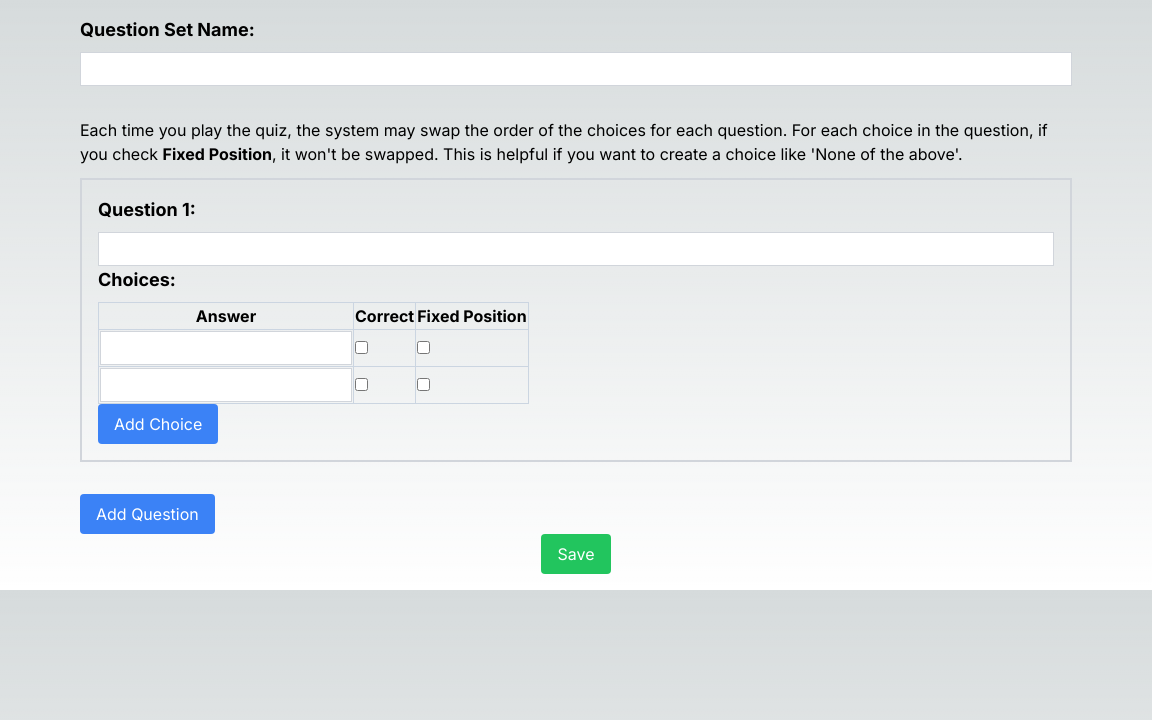
Test case: QuestionSetEditor › should reject saving question set when question set name is empty
This screenshot has width=1152, height=720.
Type "1 + 1 = ?" into the field labelled "Question 1:" at (576, 249), box x1=98 y1=232 x2=1054 y2=266
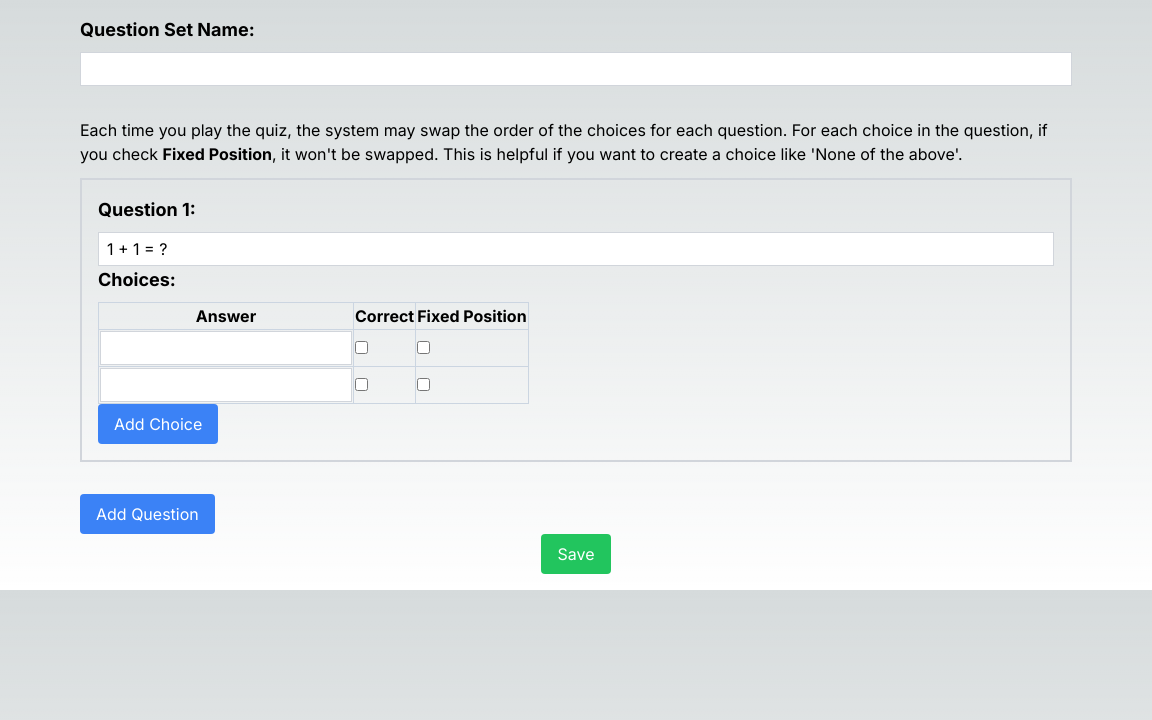
Type "2" into the field named "answer of question 1 choice 1" at (226, 348), box x1=100 y1=331 x2=352 y2=365
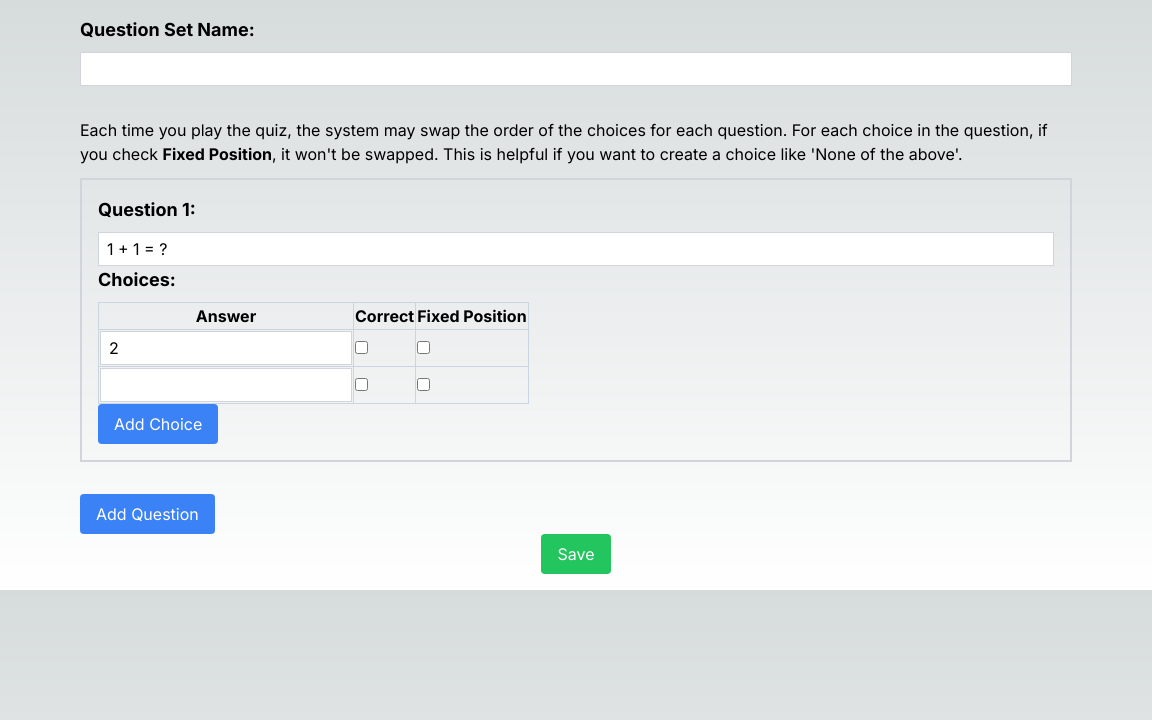
Type "0" into the field named "answer of question 1 choice 2" at (226, 385), box x1=100 y1=368 x2=352 y2=402
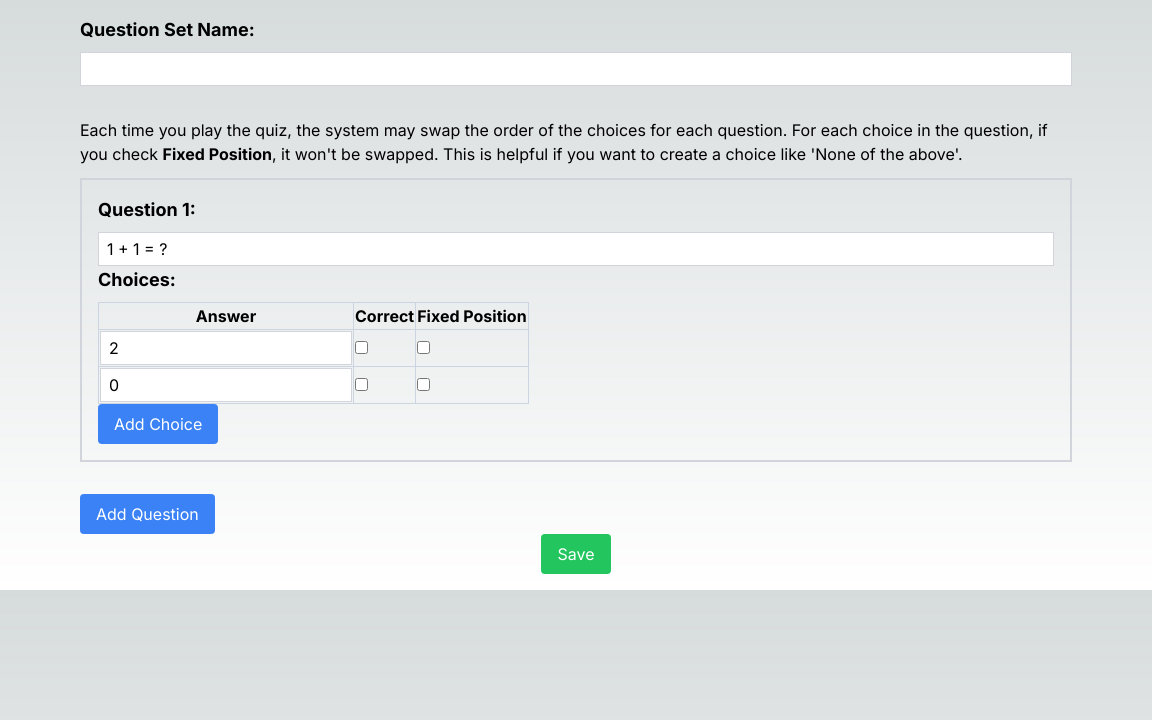
Click the checkbox named "question 1 choice 1 is correct answer" at (362, 348), box x1=355 y1=341 x2=368 y2=354
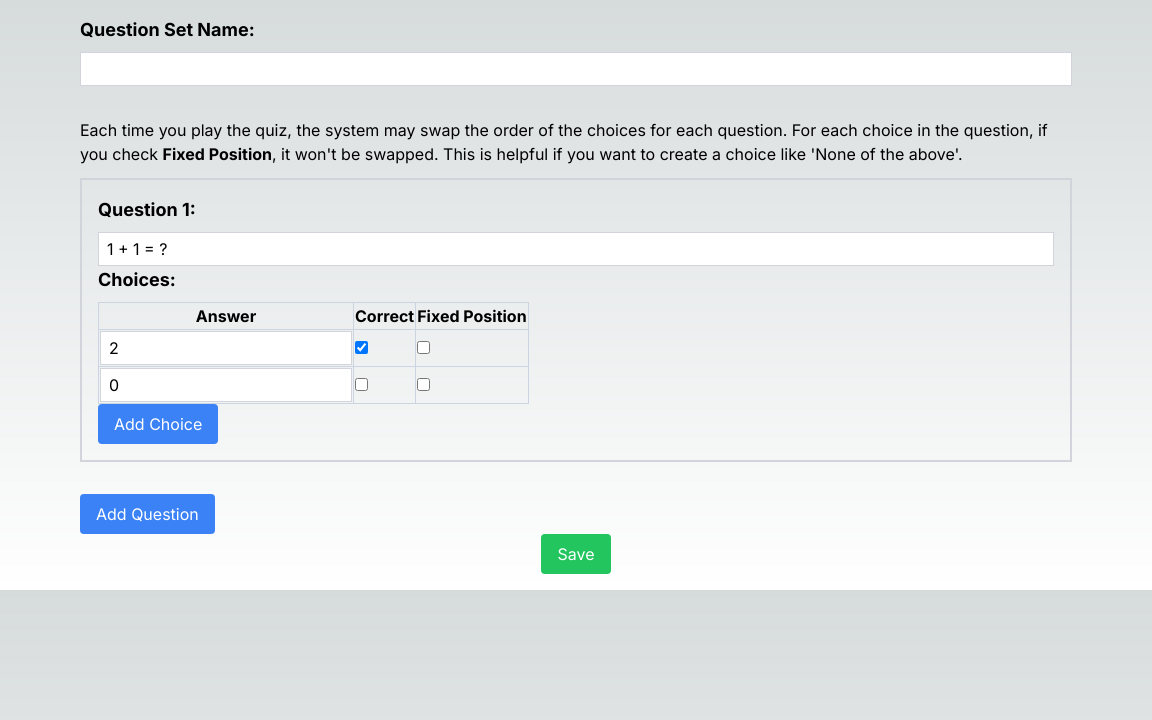
Click the button "Save" at (576, 554), box x1=542 y1=534 x2=610 y2=574
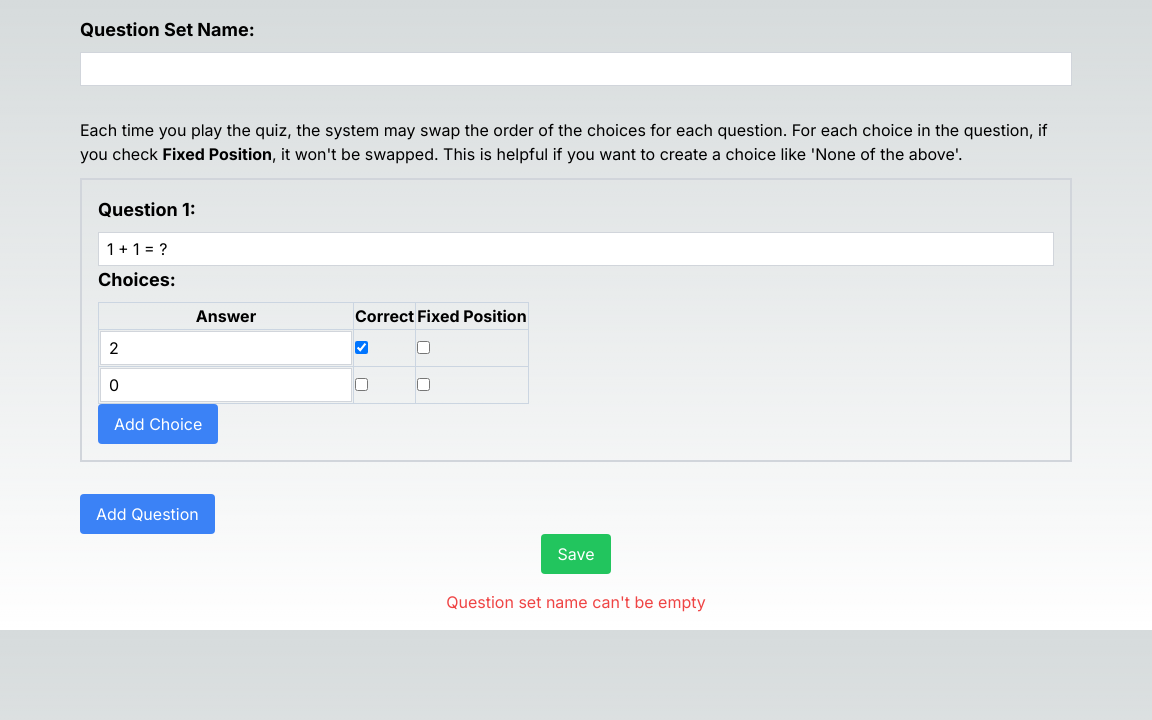
Expected: the text named "error prompt" reads "Question set name can't be empty", x1=446 y1=592 x2=706 y2=612
